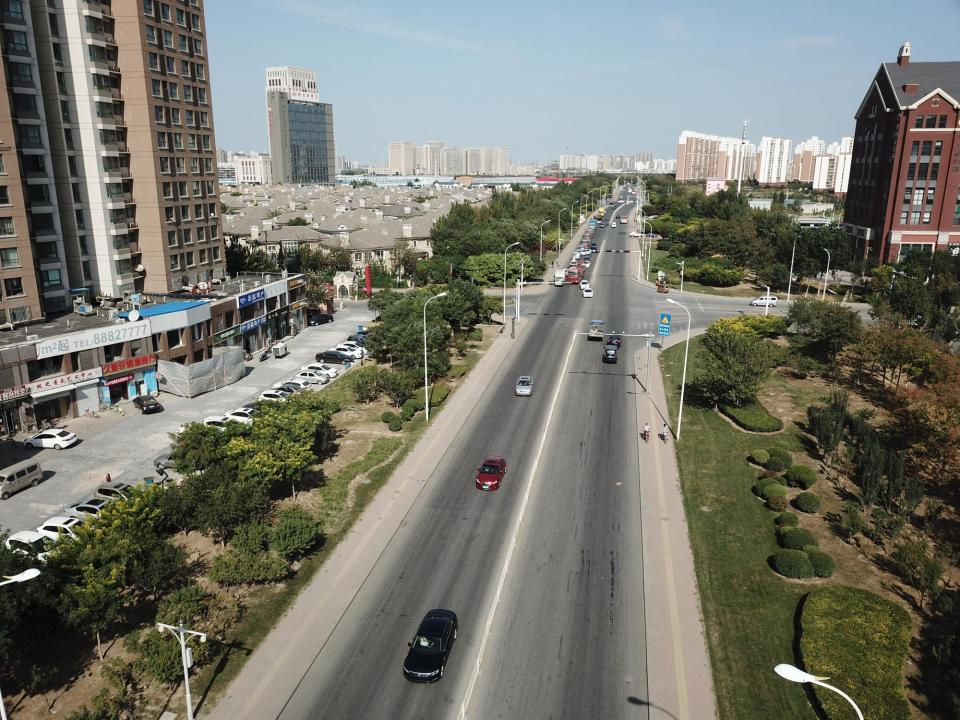bus: (608, 200, 618, 207), (621, 214, 627, 224)
car: (400, 607, 461, 688), (64, 498, 140, 538), (94, 480, 160, 520), (6, 528, 66, 570), (37, 514, 97, 551), (1, 460, 50, 502), (473, 450, 510, 496), (200, 413, 257, 440), (153, 451, 213, 475), (24, 427, 80, 450), (224, 405, 270, 426), (272, 380, 314, 399), (261, 390, 297, 411), (314, 350, 354, 368), (132, 394, 162, 416), (511, 371, 535, 397), (293, 369, 329, 386), (300, 362, 340, 377), (328, 344, 365, 359), (348, 329, 378, 347), (336, 340, 370, 354), (599, 343, 619, 361), (568, 248, 580, 266), (582, 288, 594, 297), (646, 230, 658, 238), (580, 279, 590, 288), (561, 266, 568, 277), (629, 231, 643, 236), (580, 249, 591, 255), (593, 215, 602, 222), (610, 221, 617, 229), (599, 222, 605, 228), (615, 213, 621, 219), (648, 215, 660, 218), (606, 197, 612, 201)
truck: (568, 259, 586, 285), (554, 269, 566, 287), (583, 228, 596, 241), (588, 219, 599, 229), (580, 238, 590, 249)
van: (749, 295, 779, 308), (597, 207, 606, 217), (590, 241, 597, 253)
